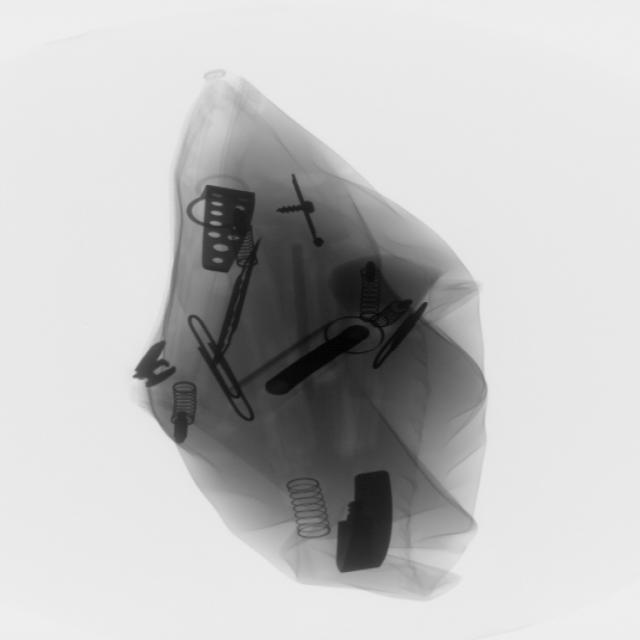BLADE: (207, 233, 264, 370)
